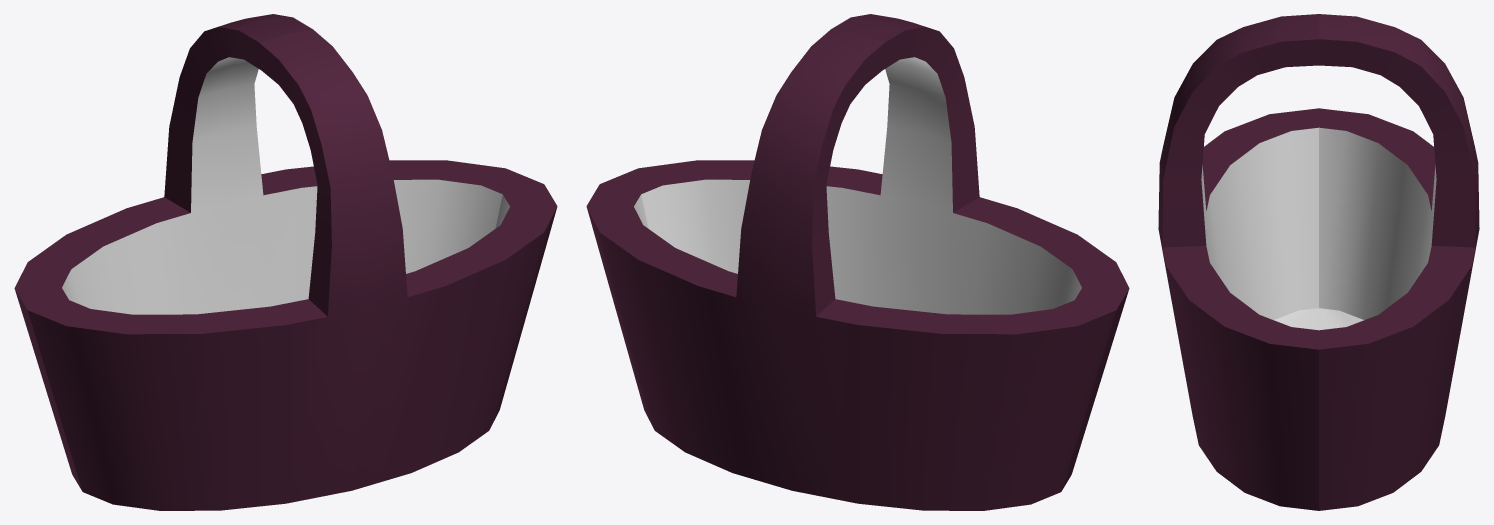
File: basket.fbx
3 views of the same model, side by side, from view 1: azimuth 30°, elevation 25°; view 2: azimuth 150°, elevation 25°; view 3: azimuth 270°, elevation 25° (orthographic). The views are drawn at different scales.
Visible parts, largest first — view 1: Cylinder; view 2: Cylinder; view 3: Cylinder.
Part boxes in pixels (x1,y1,x2,y2): Cylinder: [14, 14, 557, 510]; Cylinder: [586, 14, 1129, 510]; Cylinder: [1158, 14, 1479, 510].
Size of the model in its own units: 554 by 418 by 311.
